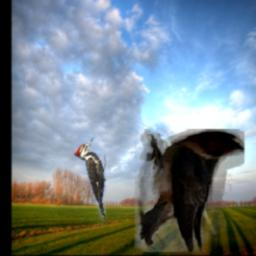Swallow: (135, 130, 244, 253)
Woodpecker: (73, 137, 106, 225)
